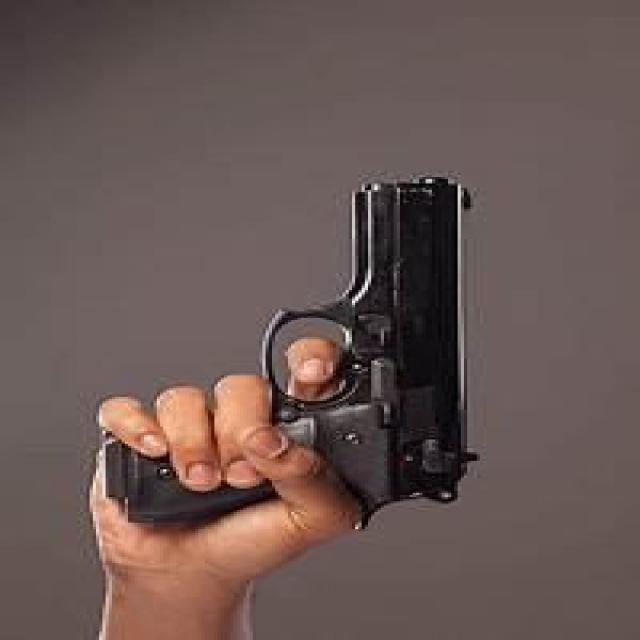Handgun: (68, 166, 506, 568)
